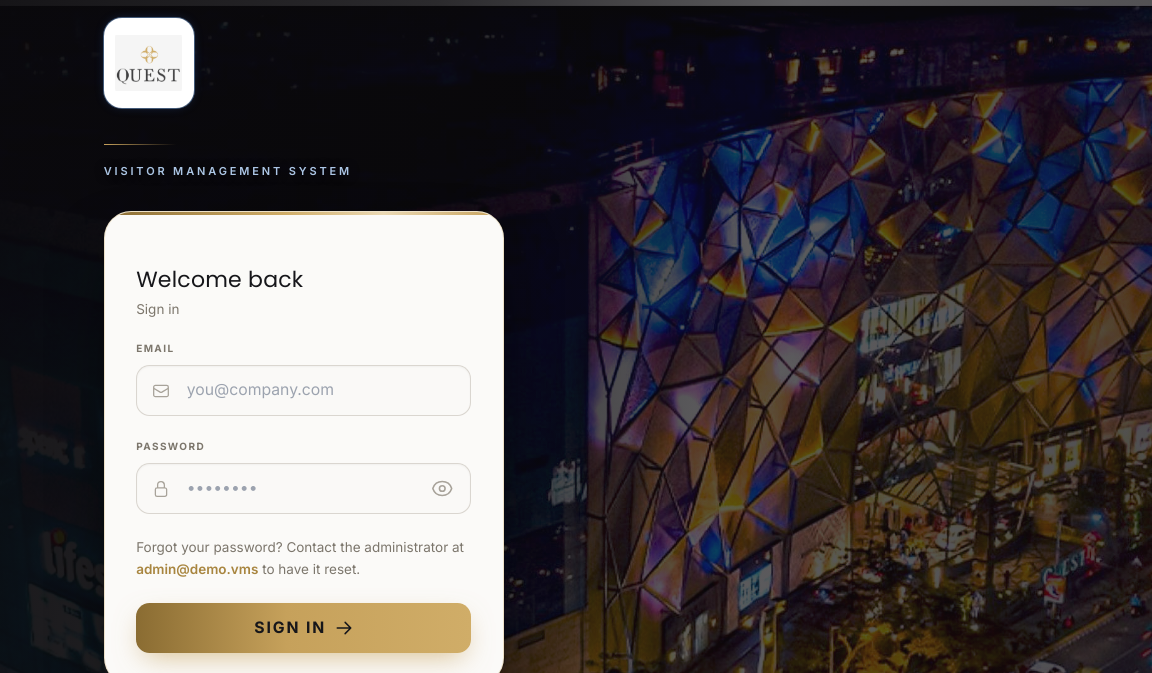
Test: M12-LOGIN: LoginPage › shows error message on failed login
Type "bad@test.com" into the field with placeholder "you@company.com" at (304, 391), box [136, 365, 471, 416]
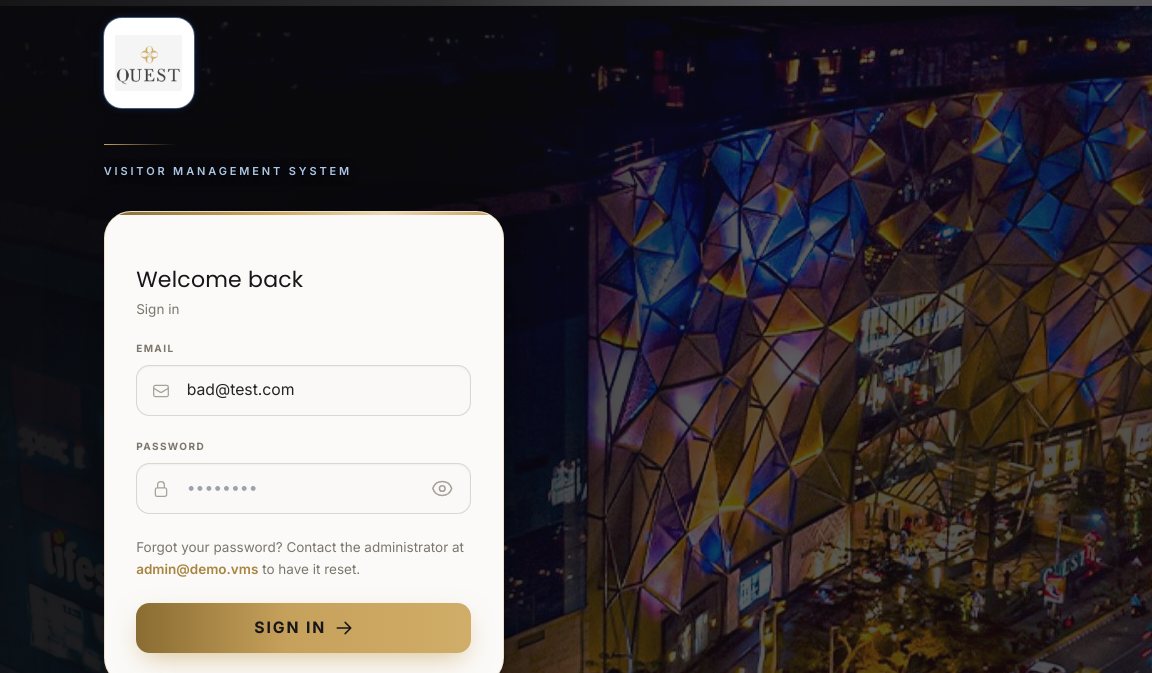
Type "wrong" into the password field with placeholder "••••••••" at (304, 489), box [136, 463, 471, 514]
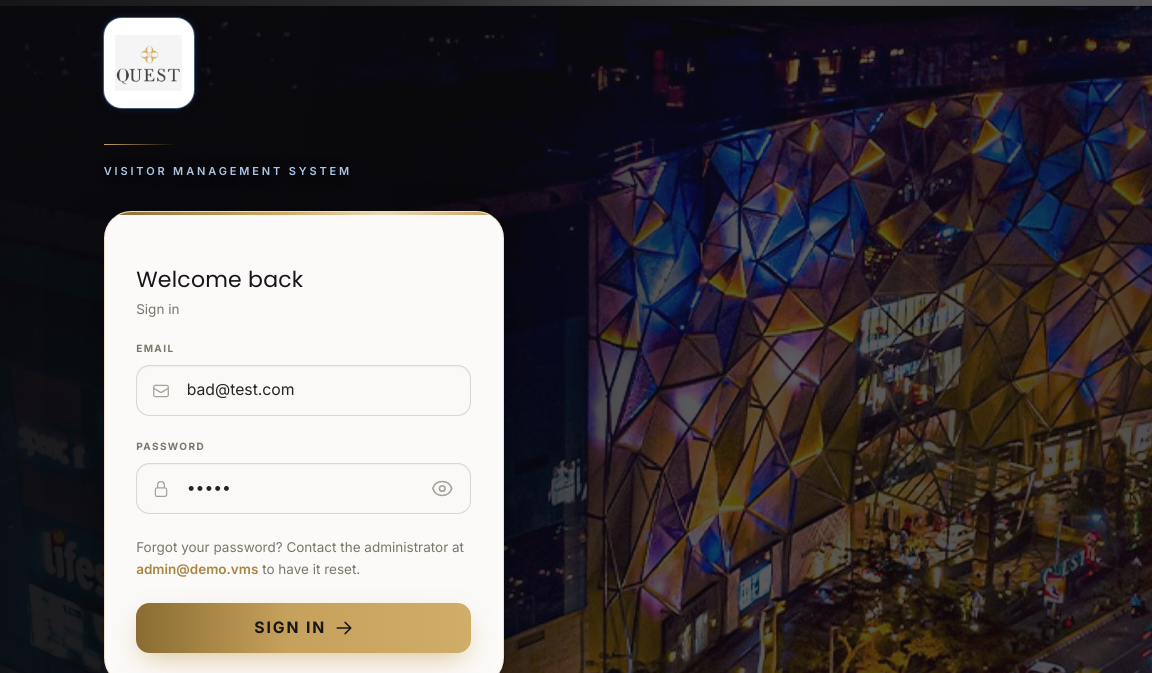
Click the button "Sign In" at (304, 628), box [136, 603, 471, 653]
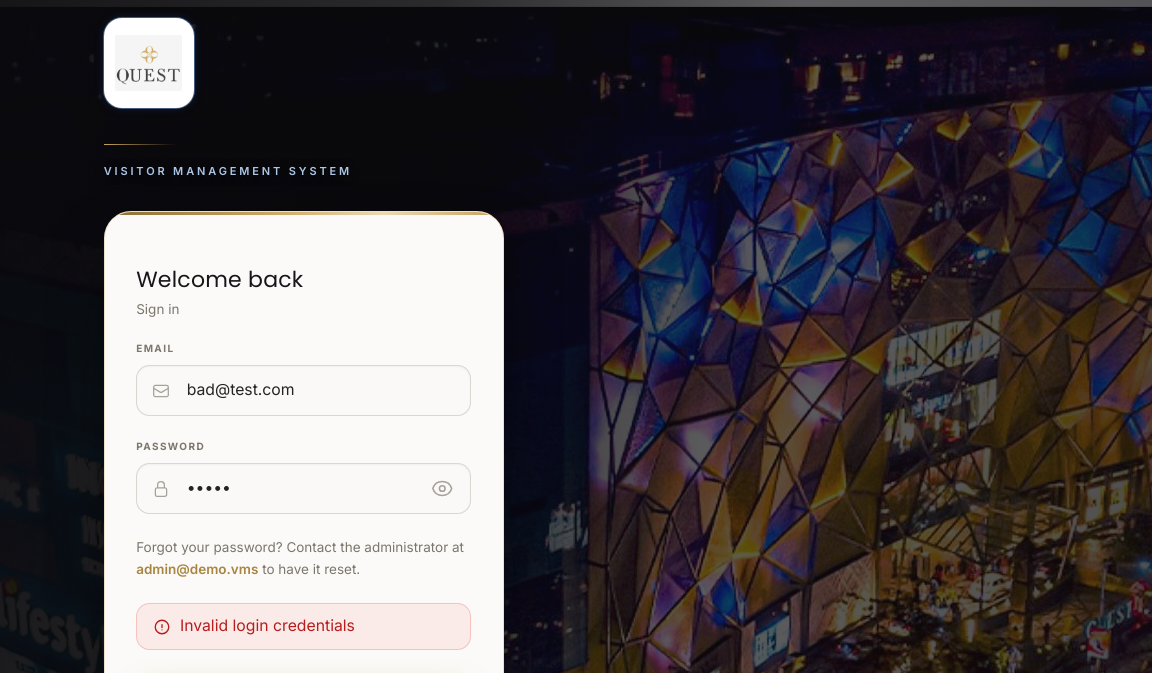
Check: the text "Invalid login credentials" is shown, box [136, 603, 471, 650]
